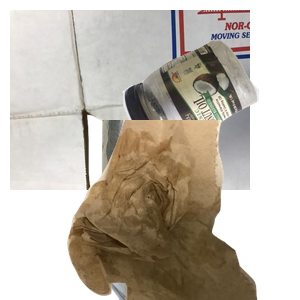cardboard: (10, 10, 250, 190)
glass: (96, 120, 283, 300)
plastic: (120, 37, 300, 185)
trash: (65, 120, 300, 300)
